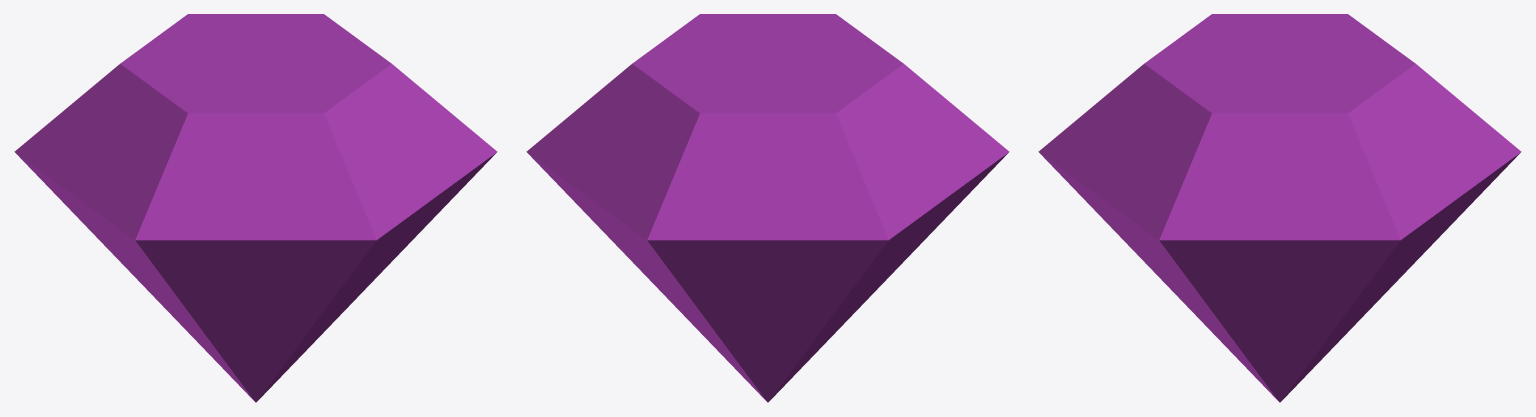
Rendered from Gem.fbx.
3 views of the same model, side by side, from view 1: azimuth 30°, elevation 25°; view 2: azimuth 150°, elevation 25°; view 3: azimuth 270°, elevation 25° (orthographic).
Parts seen in each view (by area): view 1: Diamond; view 2: Diamond; view 3: Diamond.
Part boxes in pixels (bbox=[...]): Diamond: bbox=[14, 14, 497, 402]; Diamond: bbox=[526, 14, 1009, 402]; Diamond: bbox=[1038, 14, 1521, 402].
Bounding box in the file's own units: 140 × 126 × 162.
